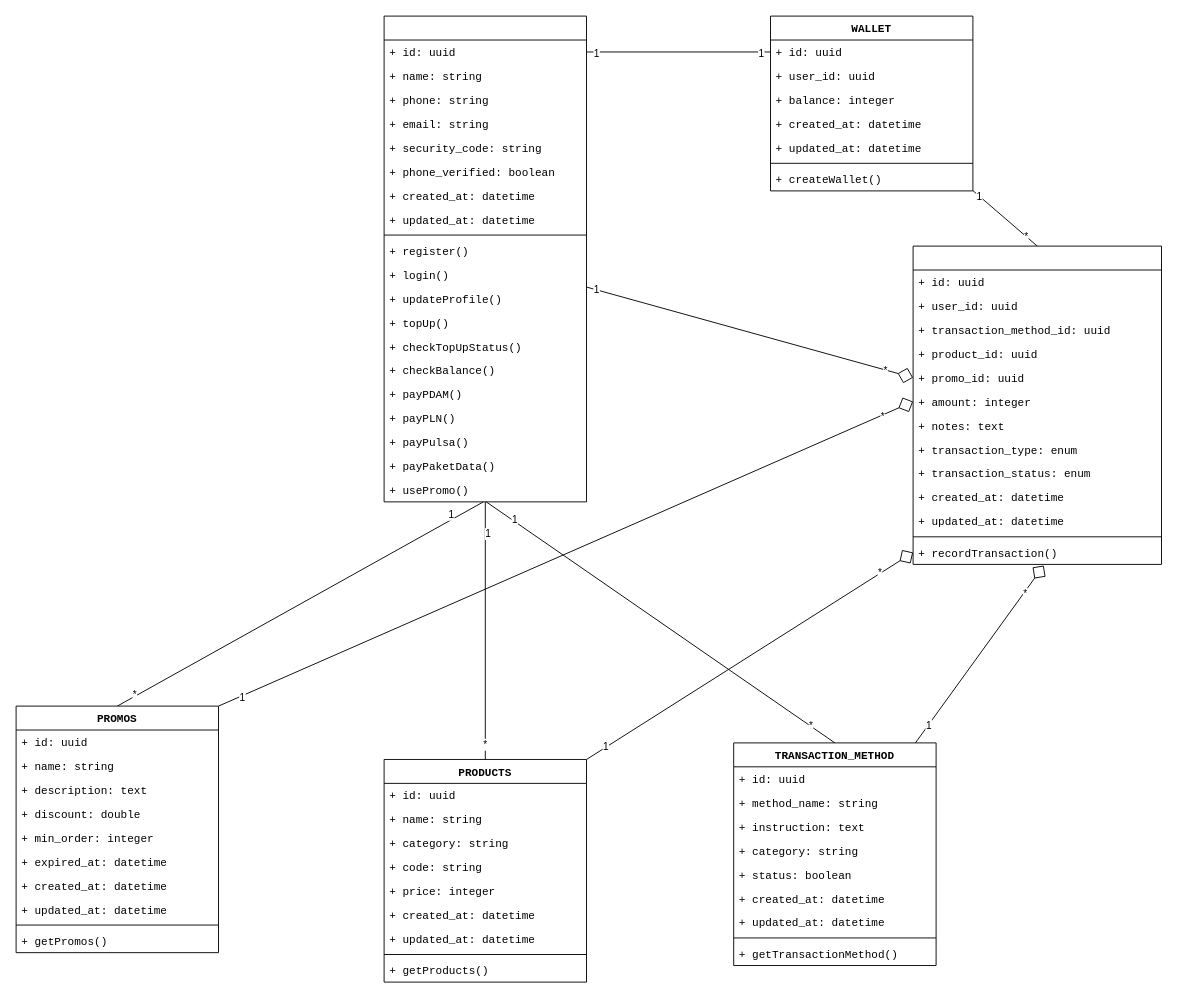
This 1178x1001 diagram has some shape labels left out. The shapes that lost their labels are listed below. From the top down, each one's box as (x1, y1, x2, y2) in pixels, then its label:
(383, 15, 586, 502): USERS
(912, 245, 1162, 564): WALLET_TRANSACTION
